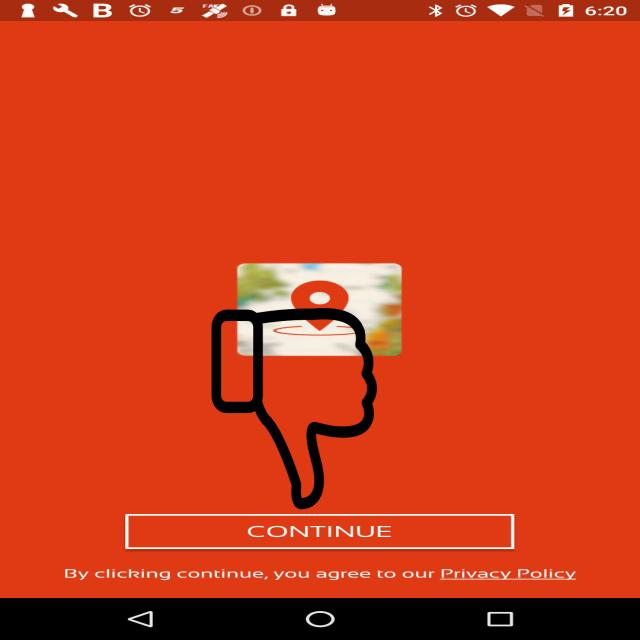obstruction: (209, 308, 379, 509)
